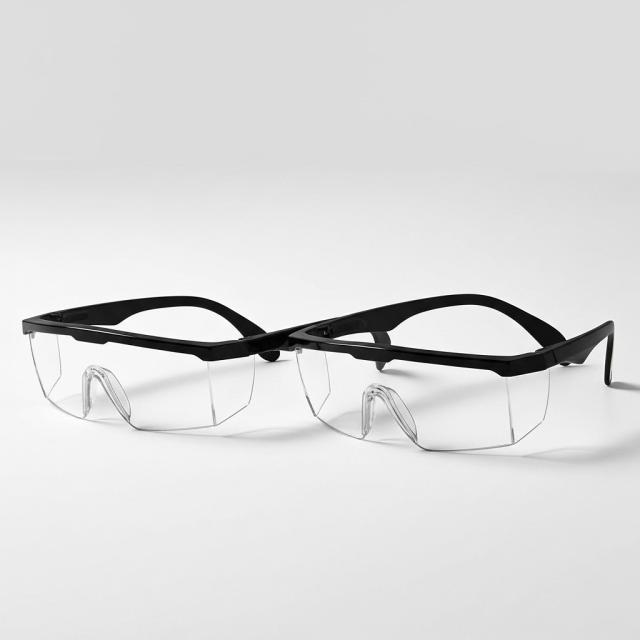oculos-epi: (22, 294, 614, 450)
